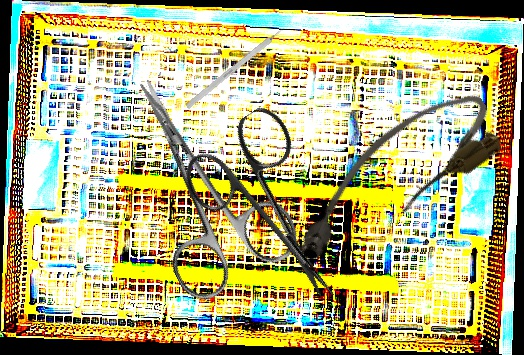Cannula: (272, 76, 512, 276)
Hook Surgical: (184, 20, 293, 110)
Iris Scissors: (89, 48, 308, 309), (172, 100, 379, 330)
